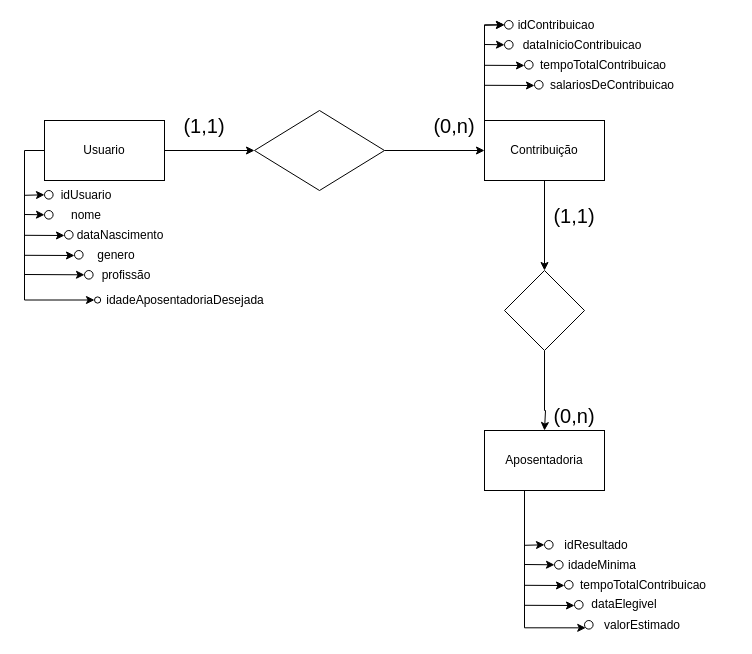
Image size: 752x654. Some labels were removed from this diagram. Here are the shapes that lost their labels. From the top down, the box of each, then its label:
(254, 110, 384, 190): Possui
(504, 270, 584, 350): Calcula
